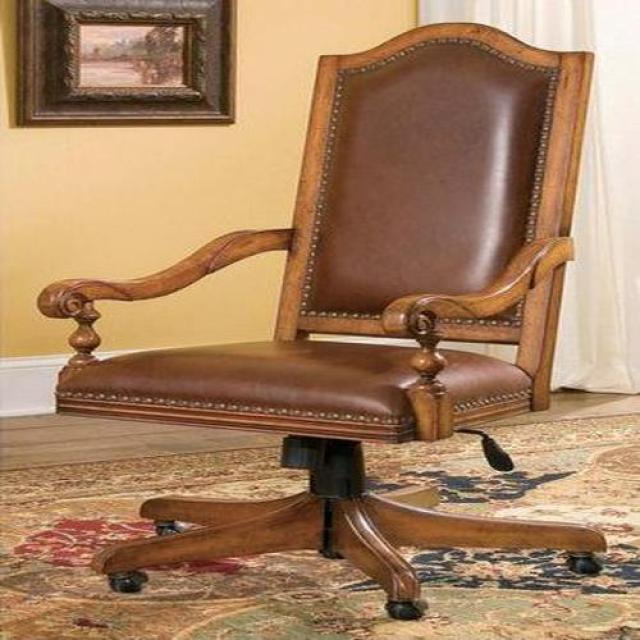swivelchair: (37, 24, 608, 622)
